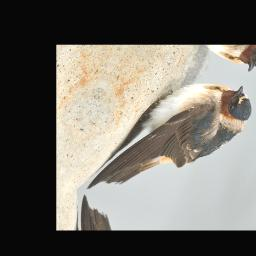Swallow: (85, 59, 256, 222)
